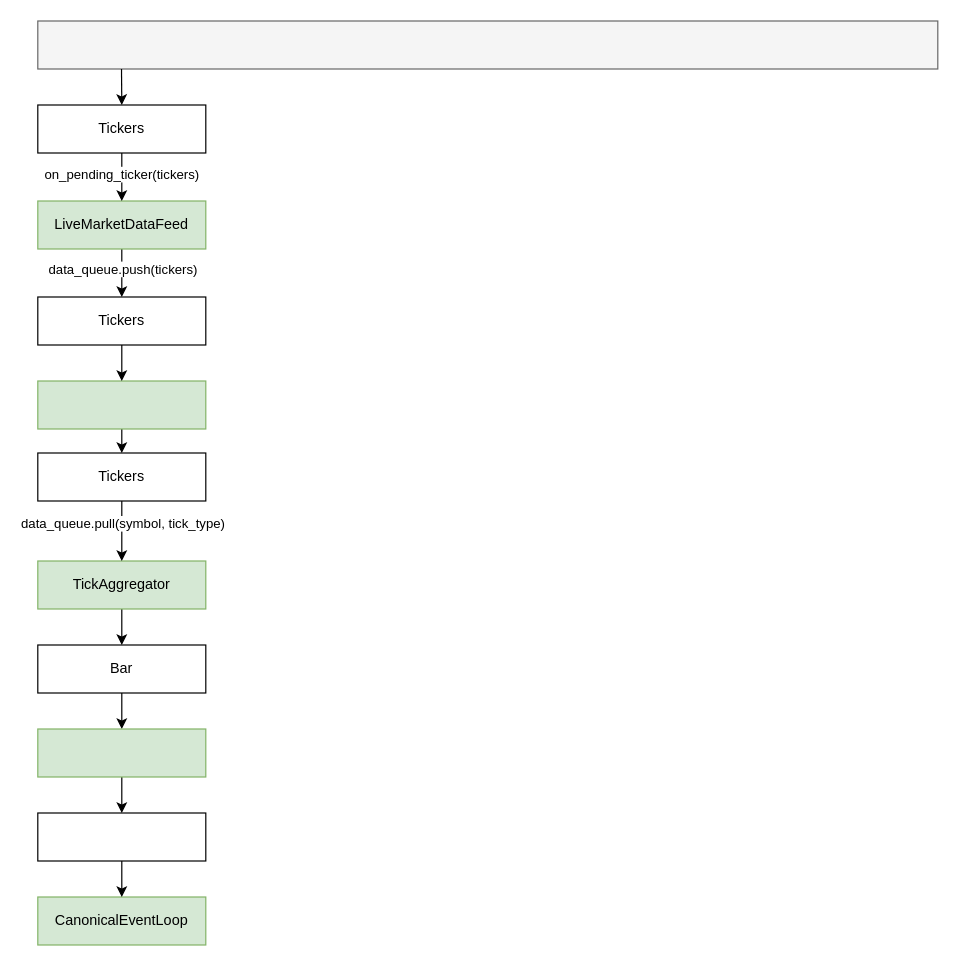
Some shapes in this 959 by 966 pixel diagram are drawn without their labels. The shapes that lost their labels are listed below. From the top down, each one's centre as x and y in pixels, then its label:
[487,44]: EXOGENOUS WORLD (DATA PROVIDER, BROKER)
[121,404]: RawMarketDataQueue
[121,752]: Ingress
[121,836]: BarAvailable
